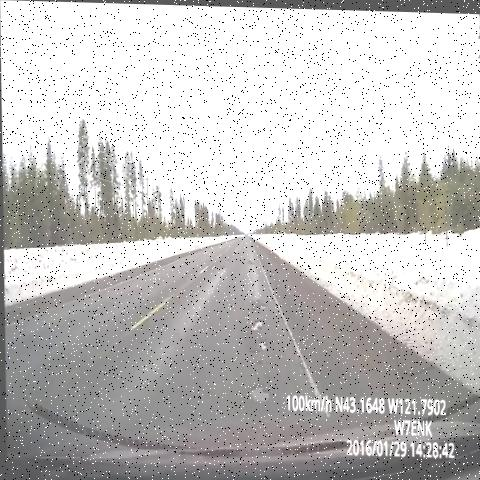pothole: (245, 370, 270, 412), (243, 332, 269, 364), (249, 289, 270, 317), (244, 314, 266, 337), (213, 255, 229, 275), (243, 247, 257, 263)
